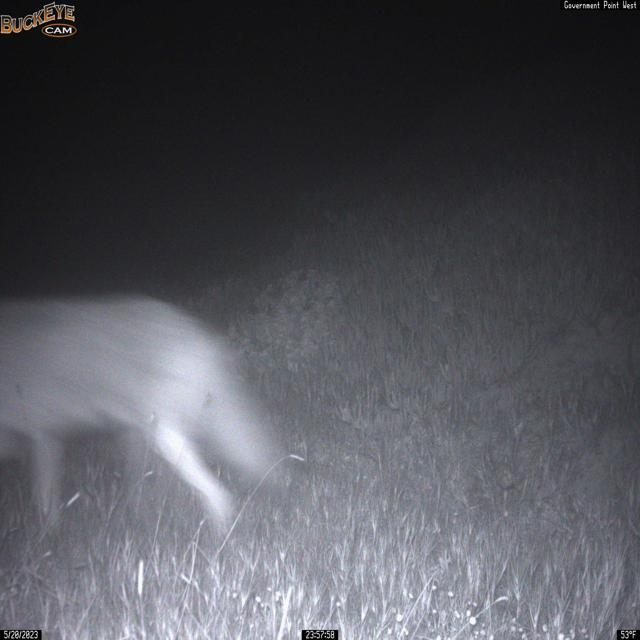coyote: (0, 292, 293, 549)
